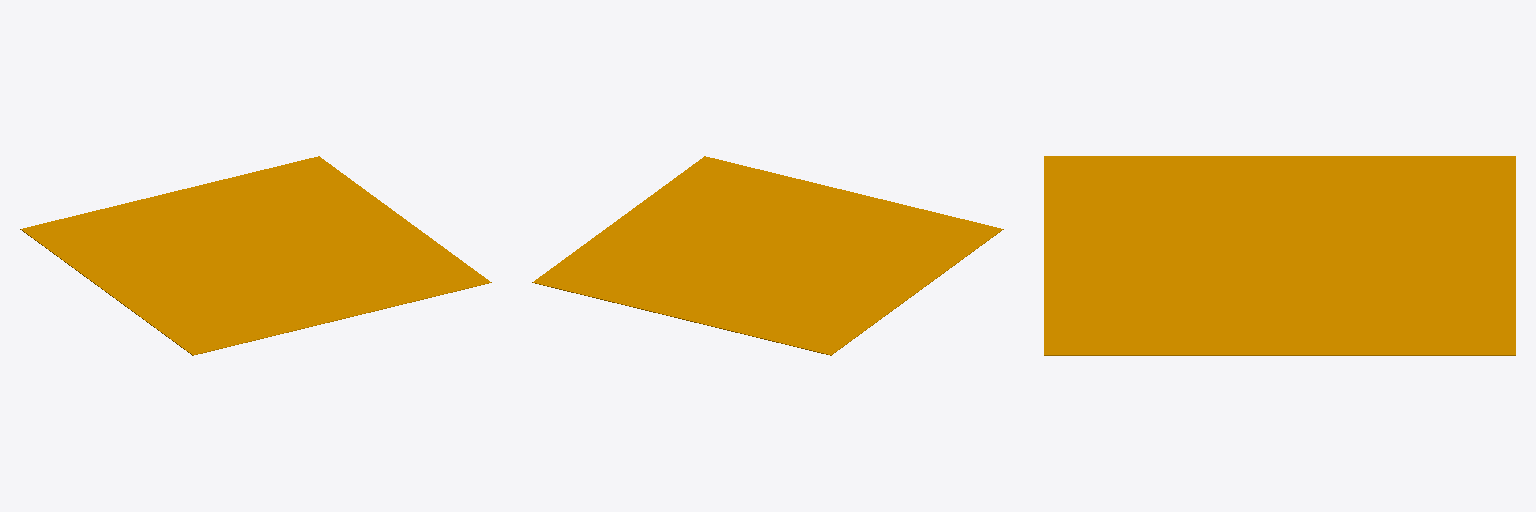
The robot description file, URDF, robot "bottom_wall":
<?xml version='1.0' encoding='UTF-8'?>
<robot name="bottom_wall">
  <link name="base_link">
    <inertial>
      <origin xyz="0.0 0.0 0.0" rpy="0.0 -0.0 0.0"/>
      <mass value="1.0"/>
      <inertia ixx="1.0" ixy="0.0" ixz="0.0" iyy="1.0" iyz="0.0" izz="1.0"/>
    </inertial>
    <visual name="base_link_visual">
      <geometry>
        <box size="0.2 100 100"/>
      </geometry>
      <origin xyz="-24 -24 0" rpy="0 1.5708 0"/>
    </visual>
    <collision name="base_link_collision">
      <geometry>
        <box size="0.2 100 100"/>
      </geometry>
      <origin xyz="-24 -24 0" rpy="0 1.5708 0"/>
    </collision>
  </link>
</robot>

--- What the picture shows (computed from the rendered views, not written in the file) ---
3 views of the same robot in one strip: view 1: azimuth 30°, elevation 25°; view 2: azimuth 150°, elevation 25°; view 3: azimuth 270°, elevation 25° (orthographic).
Model bottom_wall with 1 links and 0 joints (none), rooted at base_link, posed all joints at 0.
Visible links, largest first — view 1: base_link; view 2: base_link; view 3: base_link.
Link boxes in pixels (x1=…): base_link: x1=20, y1=156, x2=491, y2=355; base_link: x1=532, y1=156, x2=1003, y2=355; base_link: x1=1044, y1=156, x2=1515, y2=355.
Size in the robot's own frame: 100 by 100 by 0.2004 metres.
Geometry: primitives only (box / cylinder / sphere), no mesh files.
